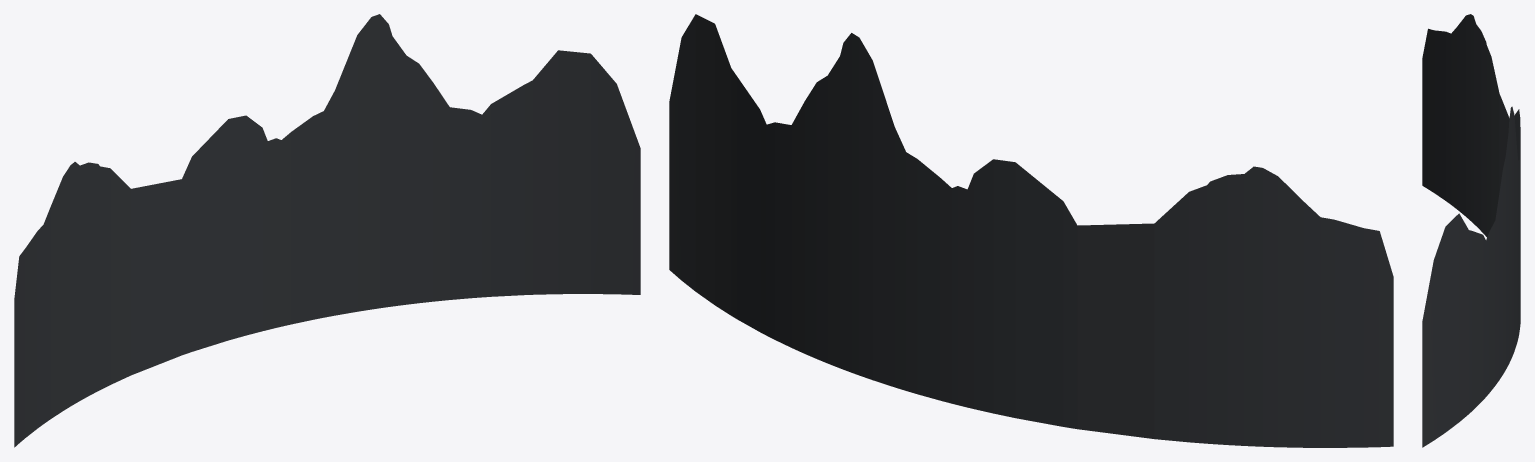
File: SM_Gen_Env_Background_Mountain_02.glb
3 renders of one model, left to right at view 1: azimuth 30°, elevation 25°; view 2: azimuth 150°, elevation 25°; view 3: azimuth 270°, elevation 25°, orthographic. The views are drawn at different scales.
Parts seen in each view (by area): view 1: SM_Gen_Env_Background_Mountain_02; view 2: SM_Gen_Env_Background_Mountain_02; view 3: SM_Gen_Env_Background_Mountain_02.
Part boxes in pixels (x1=…): SM_Gen_Env_Background_Mountain_02: x1=14, y1=14, x2=640, y2=447; SM_Gen_Env_Background_Mountain_02: x1=669, y1=14, x2=1393, y2=447; SM_Gen_Env_Background_Mountain_02: x1=1422, y1=14, x2=1520, y2=447.
Bounding box in the file's own units: 103 × 46.06 × 16.3.
1 material, 1 textured.
